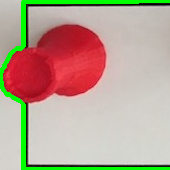Red Castle: (2, 20, 106, 105)
